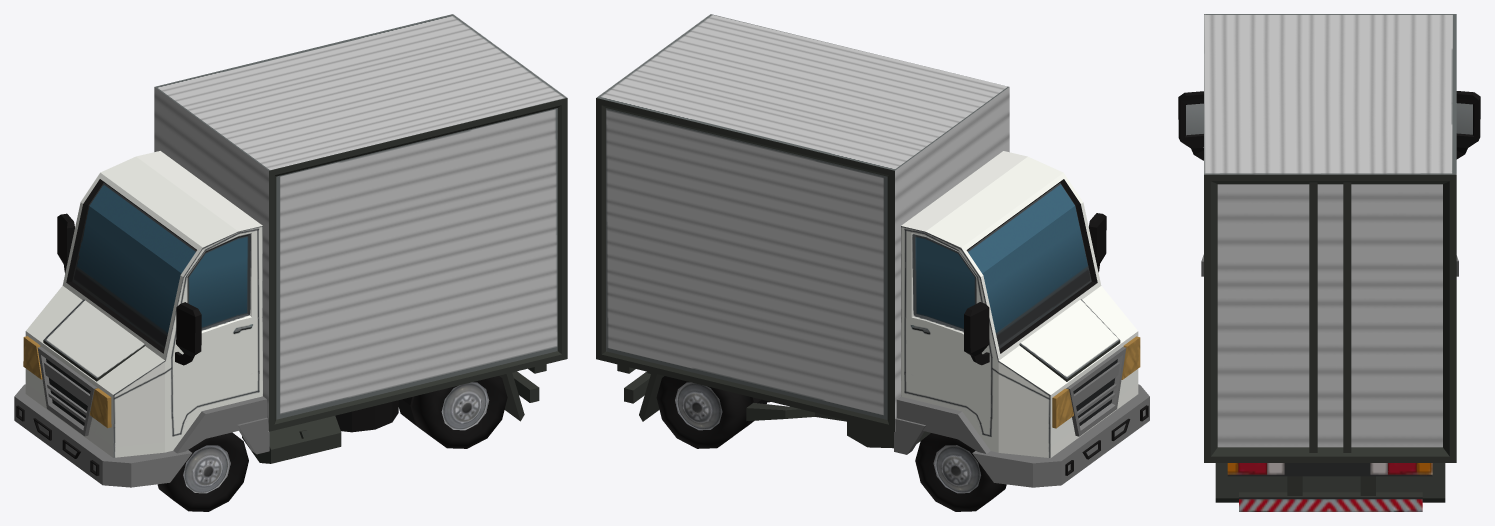
File: caminhao.fbx
3 views of the same model, side by side, from view 1: azimuth 30°, elevation 25°; view 2: azimuth 150°, elevation 25°; view 3: azimuth 270°, elevation 25° (orthographic). The views are drawn at different scales.
Parts seen in each view (by area): view 1: camiinhão; view 2: camiinhão; view 3: camiinhão.
Part boxes in pixels (x1,y1,x2,y2): camiinhão: [14, 14, 567, 511]; camiinhão: [596, 14, 1149, 511]; camiinhão: [1178, 14, 1480, 511].
Bounding box in the file's own units: 398 × 282 × 208.
